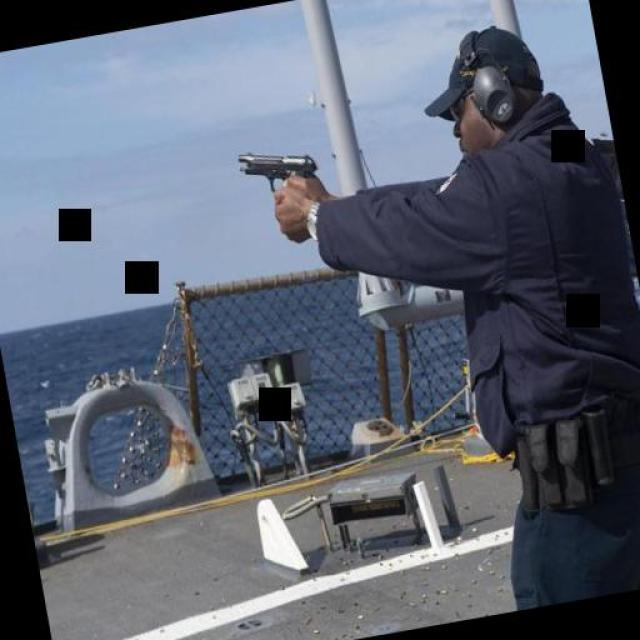gun: (230, 132, 320, 206)
